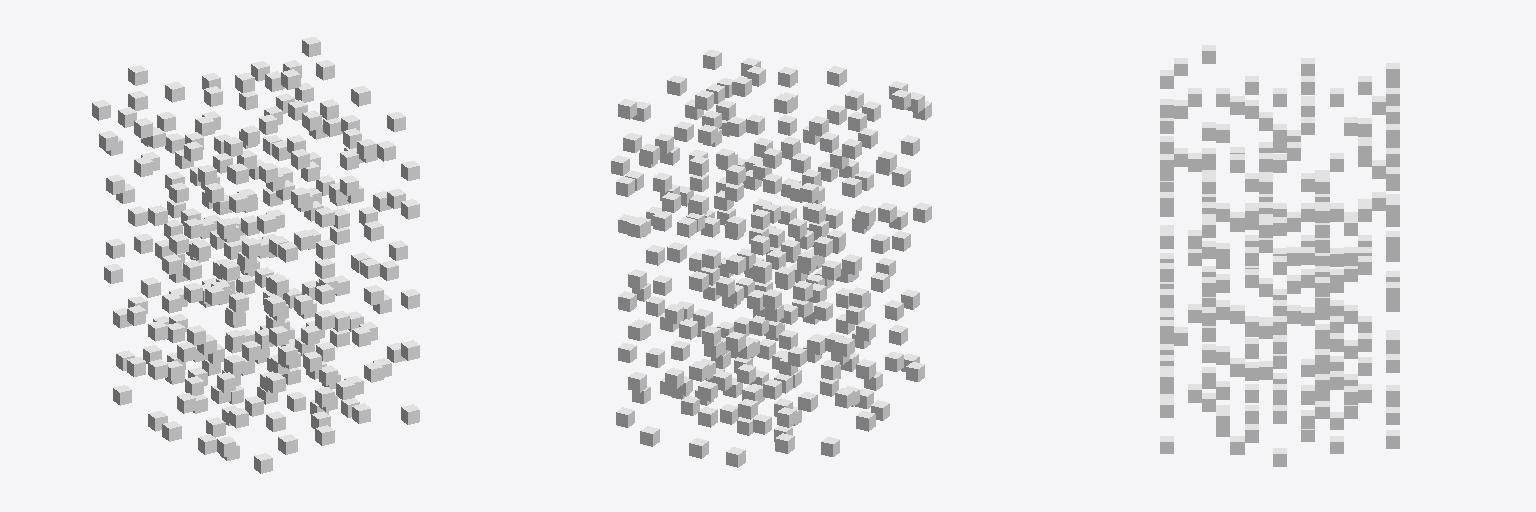
Rendered from fire-09.obj.
3 renders of one model, left to right at view 1: azimuth 30°, elevation 25°; view 2: azimuth 150°, elevation 25°; view 3: azimuth 270°, elevation 25°, orthographic.
Bounding box in the file's own units: 17 × 25 × 17.